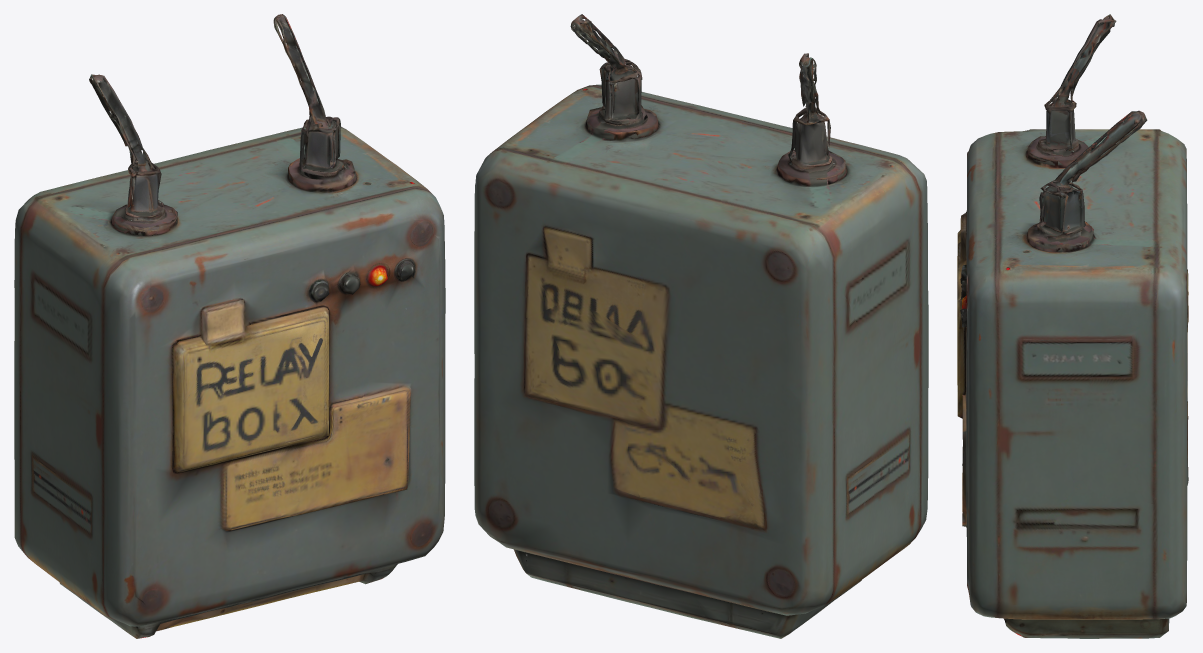
Rendered from Espresso_Dreamer_0404141311_texture.glb.
3 views of the same model, side by side, from view 1: azimuth 30°, elevation 25°; view 2: azimuth 150°, elevation 25°; view 3: azimuth 270°, elevation 25° (orthographic). The views are drawn at different scales.
Bounding box in the file's own units: 1.32 × 1.99 × 0.8164.
Materials: 1 (1 with a texture image).
